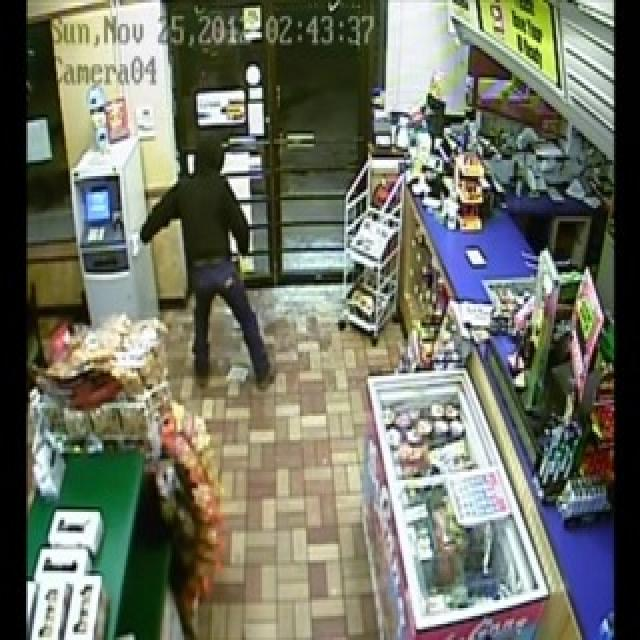thief: (180, 135, 270, 396)
